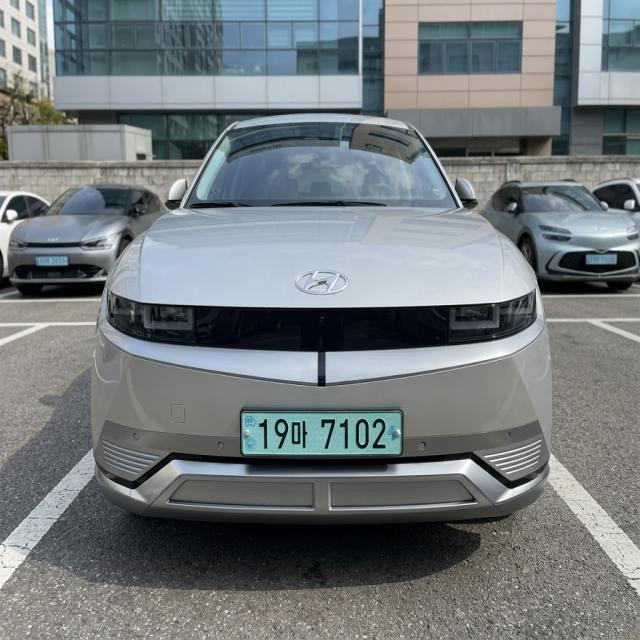car: (223, 404, 437, 472)
carev: (237, 407, 258, 459), (386, 410, 403, 461)
